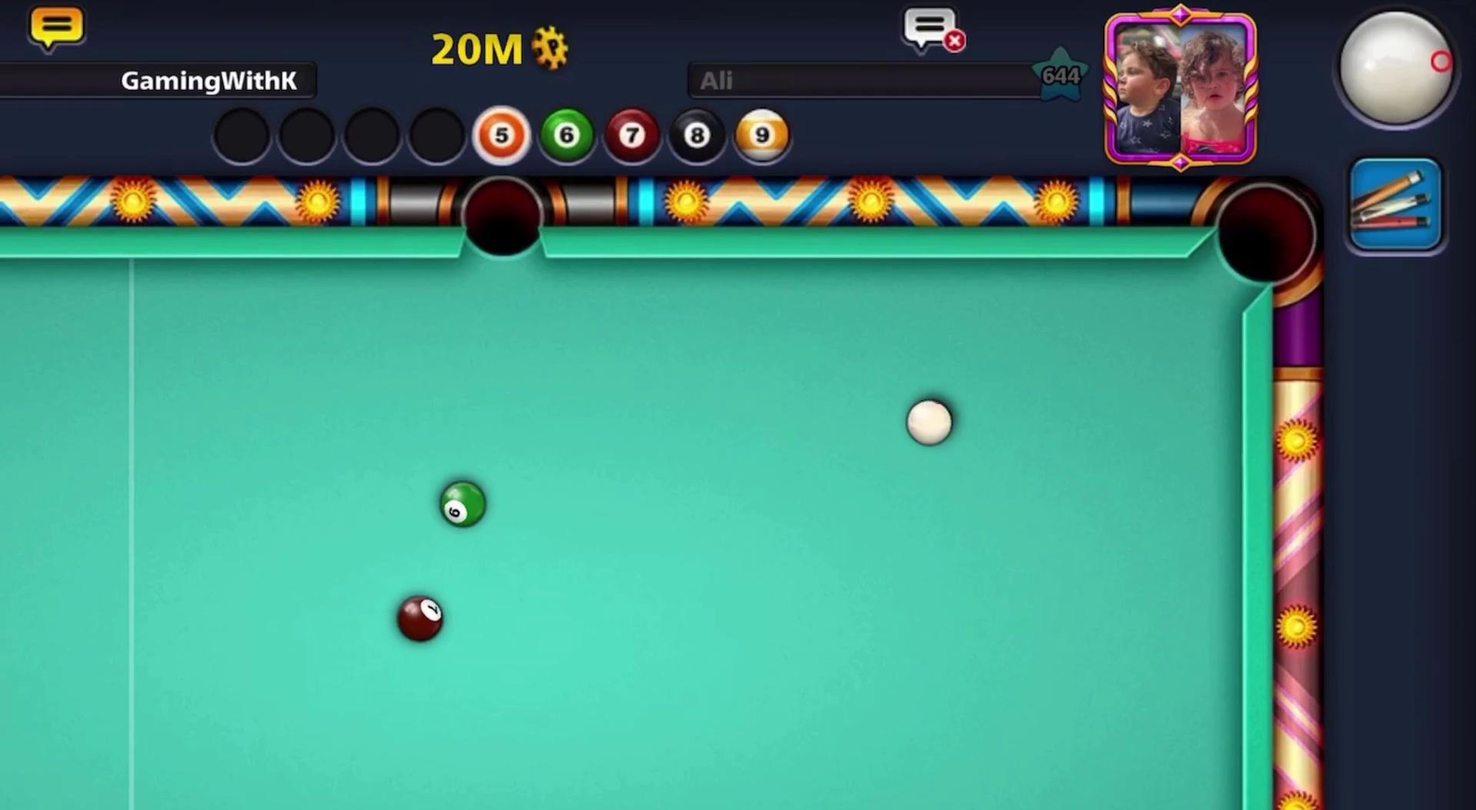Ball: (389, 589, 450, 649), (433, 473, 489, 532)
Hole: (1201, 171, 1329, 307), (454, 164, 551, 267)
Play_Area: (0, 247, 1245, 808)
Spin: (1304, 0, 1475, 148)
White: (898, 393, 965, 452)
